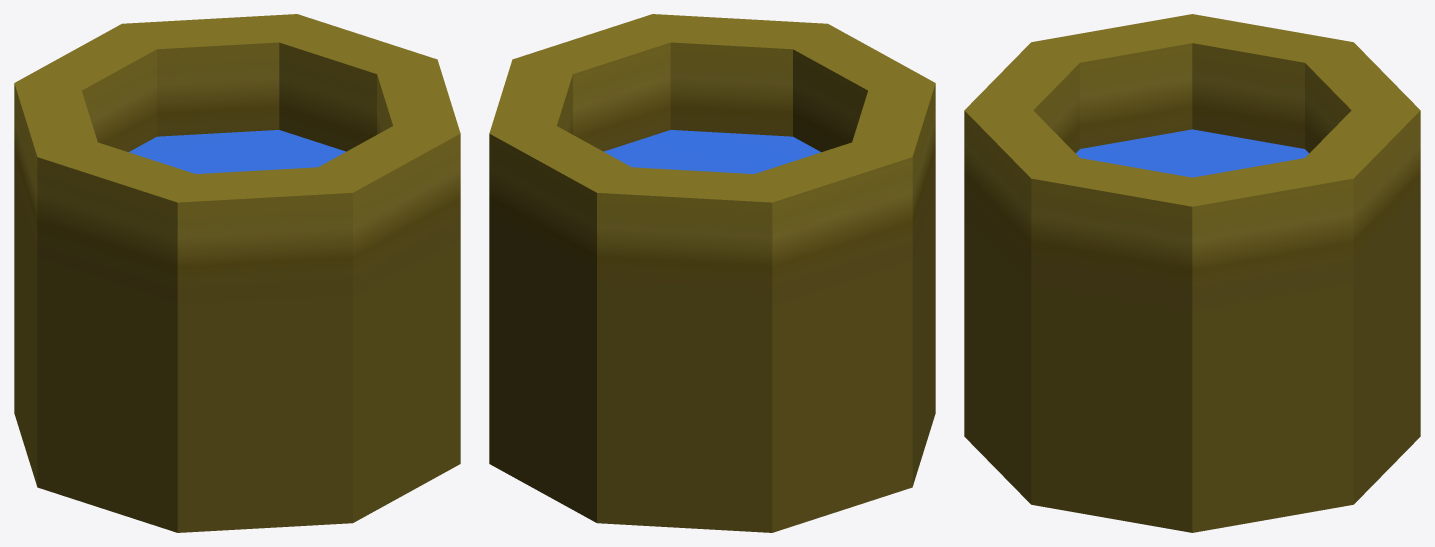
File: Vaso1Templo.glb
3 renders of one model, left to right at view 1: azimuth 30°, elevation 25°; view 2: azimuth 150°, elevation 25°; view 3: azimuth 270°, elevation 25°, orthographic.
Visible parts, largest first — view 1: Vaso1Templo; view 2: Vaso1Templo; view 3: Vaso1Templo.
Part boxes in pixels (bbox=[...]): Vaso1Templo: bbox=[14, 14, 460, 532]; Vaso1Templo: bbox=[489, 14, 935, 532]; Vaso1Templo: bbox=[964, 14, 1420, 532].
Bounding box in the file's own units: 2 × 1.58 × 2.
1 material, 1 textured.
